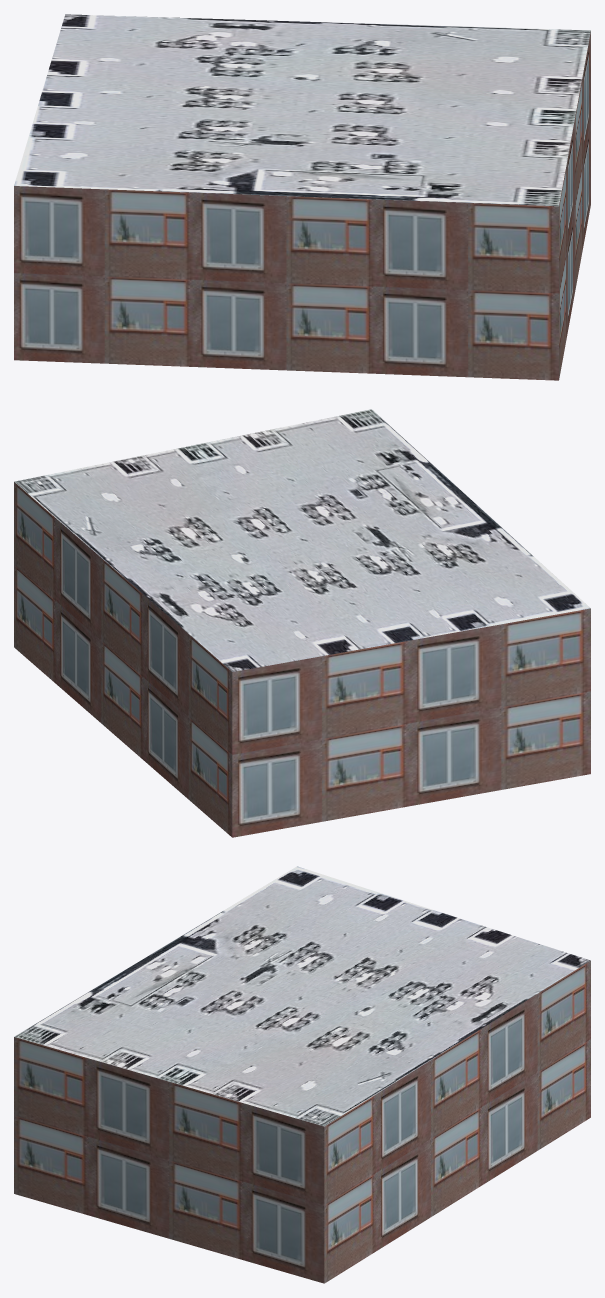
Rendered from ResTex__3795.fbx.
The picture shows the model from 3 angles, top to bottom: view 1: azimuth 30°, elevation 25°; view 2: azimuth 150°, elevation 25°; view 3: azimuth 270°, elevation 25°; orthographic projection. The views are drawn at different scales.
Visible parts, largest first — view 1: CityEngineMaterial_19_m, CityEngineMaterial_m; view 2: CityEngineMaterial_19_m, CityEngineMaterial_m; view 3: CityEngineMaterial_19_m, CityEngineMaterial_m.
Part boxes in pixels (left/top/right/bottom): CityEngineMaterial_19_m: left=14, top=31, right=590, bottom=380; CityEngineMaterial_m: left=14, top=14, right=590, bottom=206; CityEngineMaterial_19_m: left=14, top=482, right=590, bottom=837; CityEngineMaterial_m: left=14, top=409, right=590, bottom=671; CityEngineMaterial_19_m: left=14, top=961, right=590, bottom=1283; CityEngineMaterial_m: left=14, top=866, right=590, bottom=1126.
Bounding box in the file's own units: 21.33 × 6 × 19.98.
2 materials, 2 textured.
